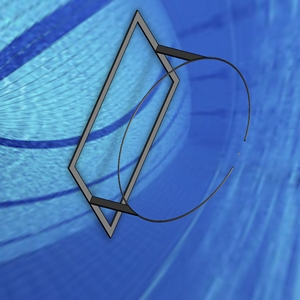circle: (67, 8, 256, 240)
